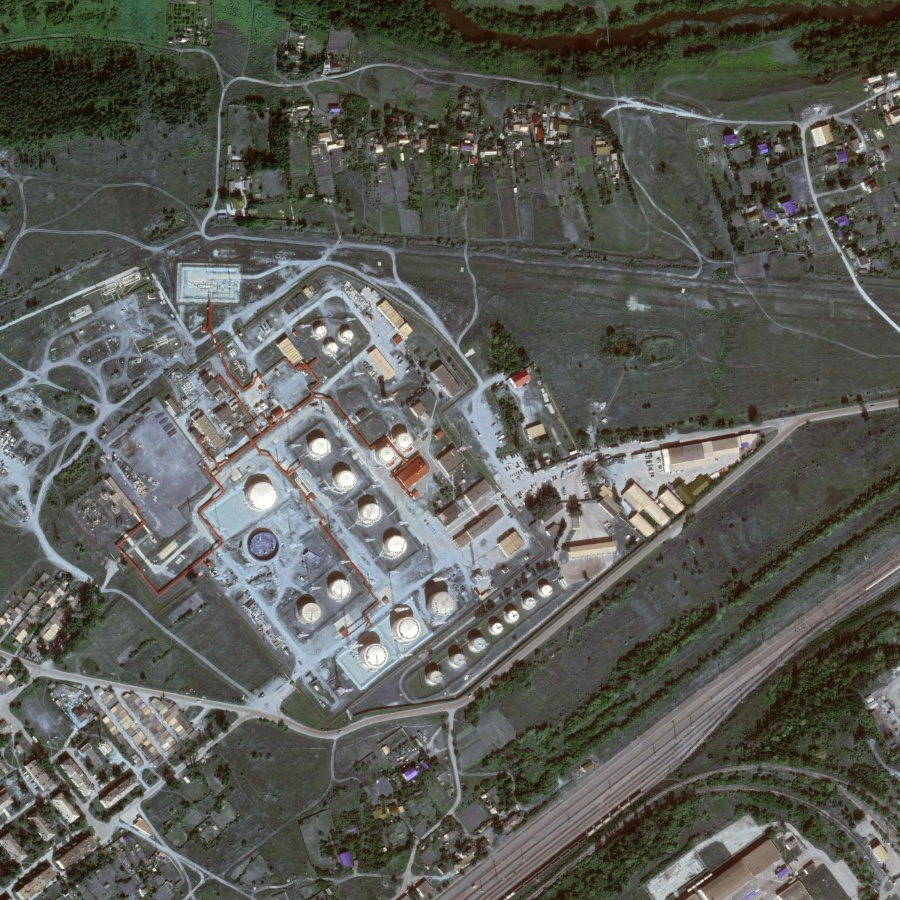PowerPlant: (246, 396, 559, 687)
